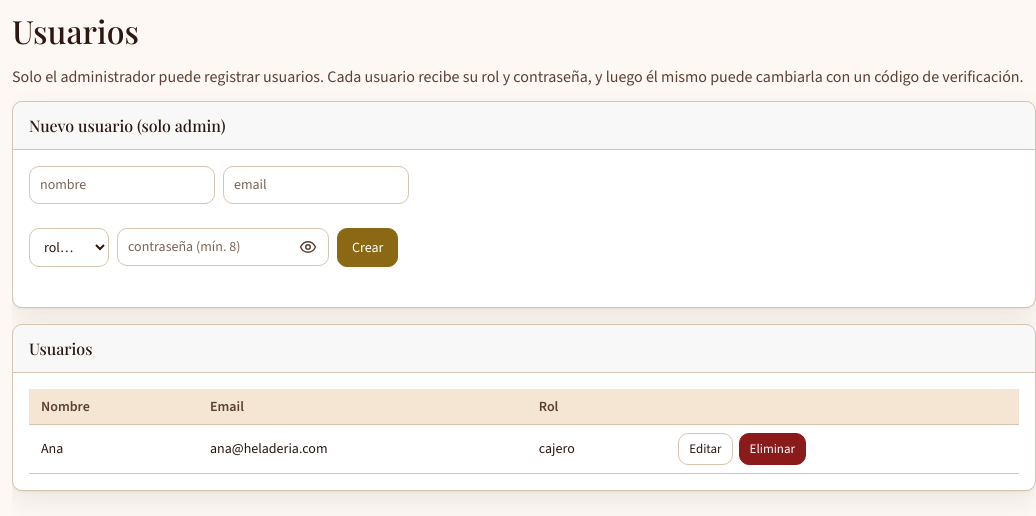
Test: UsuariosPage › editar carga datos al formulario
Expected: the text "Ana" is shown, [29, 425, 198, 473]
Click the button "Editar" at {"x": 705, "y": 449}, box [678, 433, 732, 465]
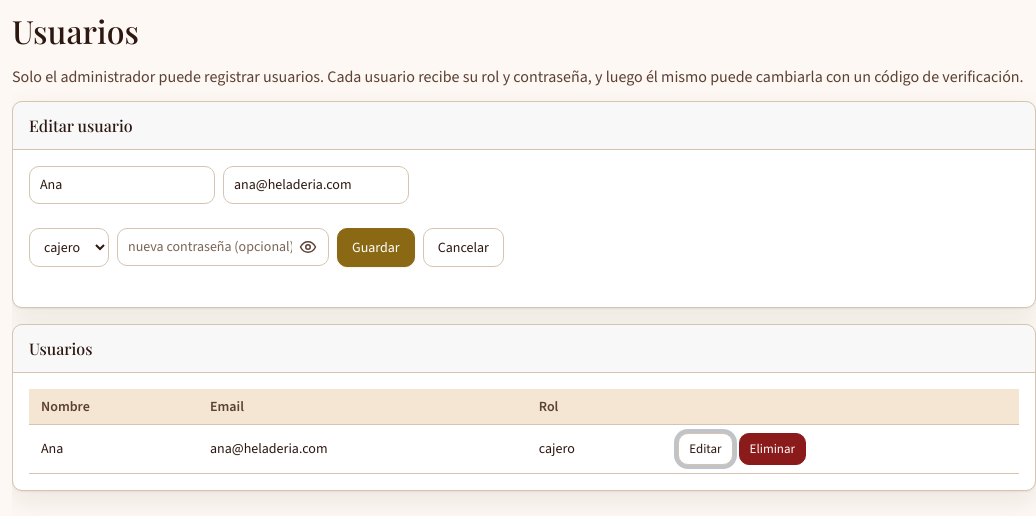
Result: the 1st field showing "Ana" is shown at [29, 166, 215, 204]
